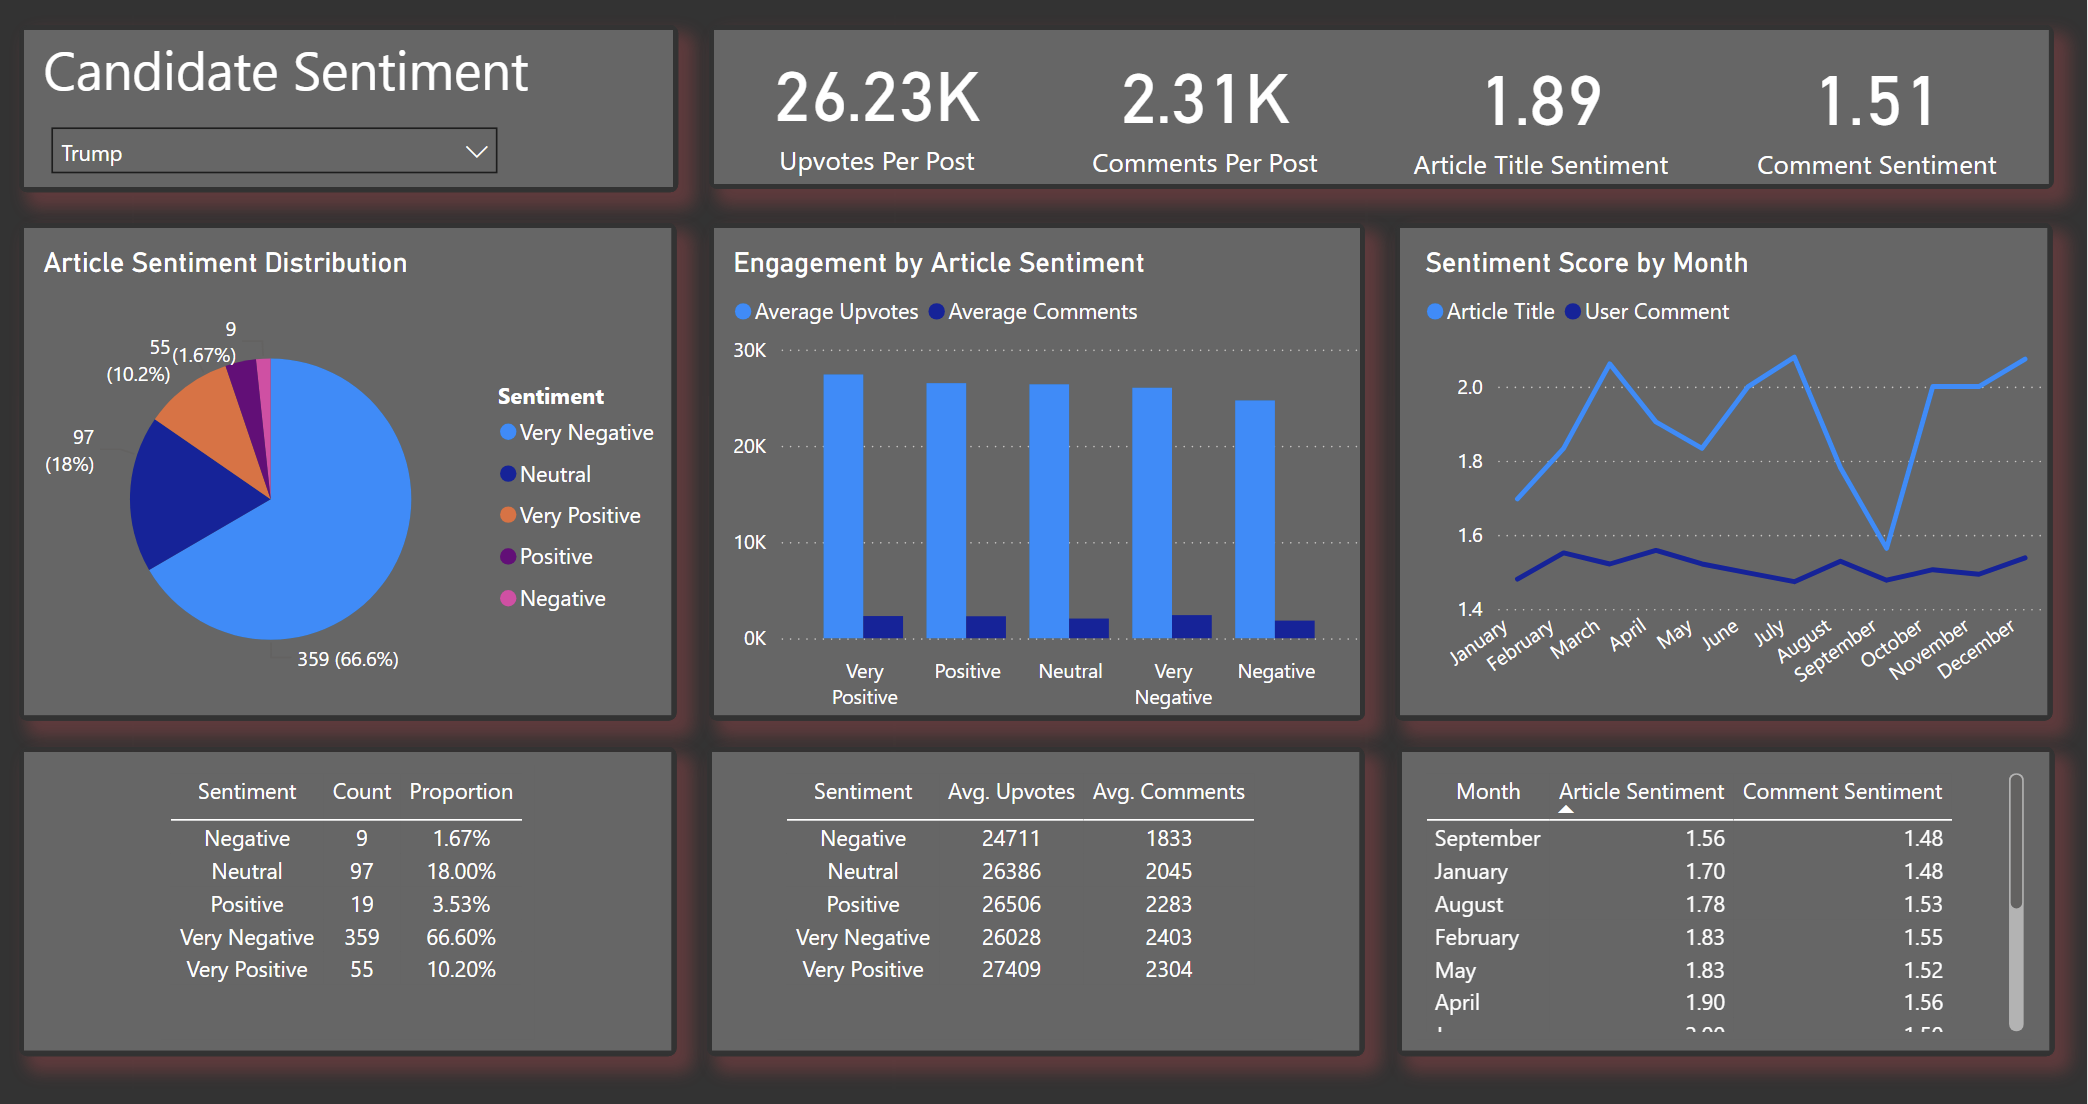

The page's visual inventory and layout, read from the dashboard file:
{"tool":"powerbi","page":{"name":"Page 1","canvas":[1280,720],"ordinal":0},"visuals":[{"type":"shape","box":[858.6,140.3,401,303.3],"z":0},{"type":"shape","box":[440.2,140.3,400.1,303.3],"z":1000},{"type":"shape","box":[20,20,401.8,102],"z":2000},{"type":"shape","box":[20,140.3,401,303.3],"z":3000},{"type":"shape","box":[440.2,20,820.2,100.2],"z":4000},{"type":"pieChart","title":"Article Sentiment Distribution","fields":{"Y":["submissions.sentiment_label"],"Category":["submissions.sentiment_label"]},"box":[28.8,155.2,391.4,288.5],"z":5000},{"type":"lineChart","title":"Sentiment Score by Month","fields":{"Y":["submissions.sentiment","comments.sentiment_score"],"Category":["submissions.date.Variation.Date Hierarchy.Month"]},"box":[872.5,155.2,387,288.5],"z":6000},{"type":"card","fields":{"Values":["submissions.num_upvotes"]},"box":[440.2,20,204.8,100.2],"z":7000},{"type":"card","fields":{"Values":["submissions.num_comments"]},"box":[639.8,20.9,204.8,100.2],"z":8000},{"type":"card","fields":{"Values":["submissions.sentiment"]},"box":[844.6,21.8,204.8,100.2],"z":9000},{"type":"card","fields":{"Values":["comments.sentiment_score"]},"box":[1049.5,21.8,204.8,100.2],"z":10000},{"type":"clusteredColumnChart","title":"Engagement by Article Sentiment","fields":{"Category":["submissions.sentiment_label"],"Y":["submissions.num_upvotes","submissions.num_comments"]},"box":[449.8,155.2,391.4,289.4],"z":11000},{"type":"shape","box":[20,460,401,188.3],"z":12000},{"type":"tableEx","fields":{"Values":["submissions.sentiment_label","submissions.Count Sentiment","submissions.SentimentProportion"]},"box":[106.3,470.7,227.5,167.4],"z":13000},{"type":"shape","box":[439.3,460,401,188.3],"z":14000},{"type":"shape","box":[859.5,460,401,188.3],"z":15000},{"type":"textbox","box":[28.8,20,393.1,100.2],"z":16000},{"type":"slicer","fields":{"Values":["submissions.candidate"]},"box":[28.8,71.5,292,48.8],"z":17000},{"type":"tableEx","fields":{"Values":["submissions.sentiment_label","submissions.Total Upvotes","submissions.Total Comments"]},"box":[482,470.7,326.9,167.4],"z":18000},{"type":"tableEx","fields":{"Values":["submissions.date.Variation.Date Hierarchy.Month","submissions.Avg. Article Sentiment","comments.Avg. Comment Sentiment"]},"box":[872.5,470.7,374.8,167.4],"z":19000}]}

Visuals, with their boxes on the page's 1280x720 design canvas (x1, y1, x2, y2). These are canvas units, not pixel positions in the 2088x1104 screenshot, which may show the page scaled, cropped or inside an application window:
shape: x1=859 y1=140 x2=1260 y2=444
shape: x1=440 y1=140 x2=840 y2=444
shape: x1=20 y1=20 x2=422 y2=122
shape: x1=20 y1=140 x2=421 y2=444
shape: x1=440 y1=20 x2=1260 y2=120
"Article Sentiment Distribution" pieChart: x1=29 y1=155 x2=420 y2=444
"Sentiment Score by Month" lineChart: x1=872 y1=155 x2=1260 y2=444
card - submissions.num_upvotes: x1=440 y1=20 x2=645 y2=120
card - submissions.num_comments: x1=640 y1=21 x2=845 y2=121
card - submissions.sentiment: x1=845 y1=22 x2=1049 y2=122
card - comments.sentiment_score: x1=1050 y1=22 x2=1254 y2=122
"Engagement by Article Sentiment" clusteredColumnChart: x1=450 y1=155 x2=841 y2=445
shape: x1=20 y1=460 x2=421 y2=648
tableEx - submissions.sentiment_label x submissions.Count Sentiment: x1=106 y1=471 x2=334 y2=638
shape: x1=439 y1=460 x2=840 y2=648
shape: x1=860 y1=460 x2=1260 y2=648
textbox: x1=29 y1=20 x2=422 y2=120
slicer - submissions.candidate: x1=29 y1=72 x2=321 y2=120
tableEx - submissions.sentiment_label x submissions.Total Upvotes: x1=482 y1=471 x2=809 y2=638
tableEx - submissions.date.Variation.Date Hierarchy.Month x submissions.Avg. Article Sentiment: x1=872 y1=471 x2=1247 y2=638
